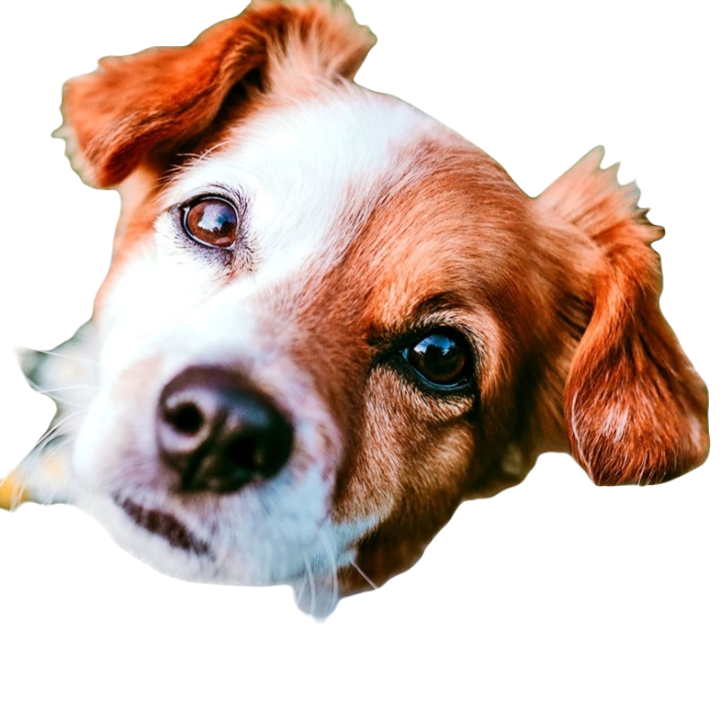Dog: (7, 6, 716, 624)
